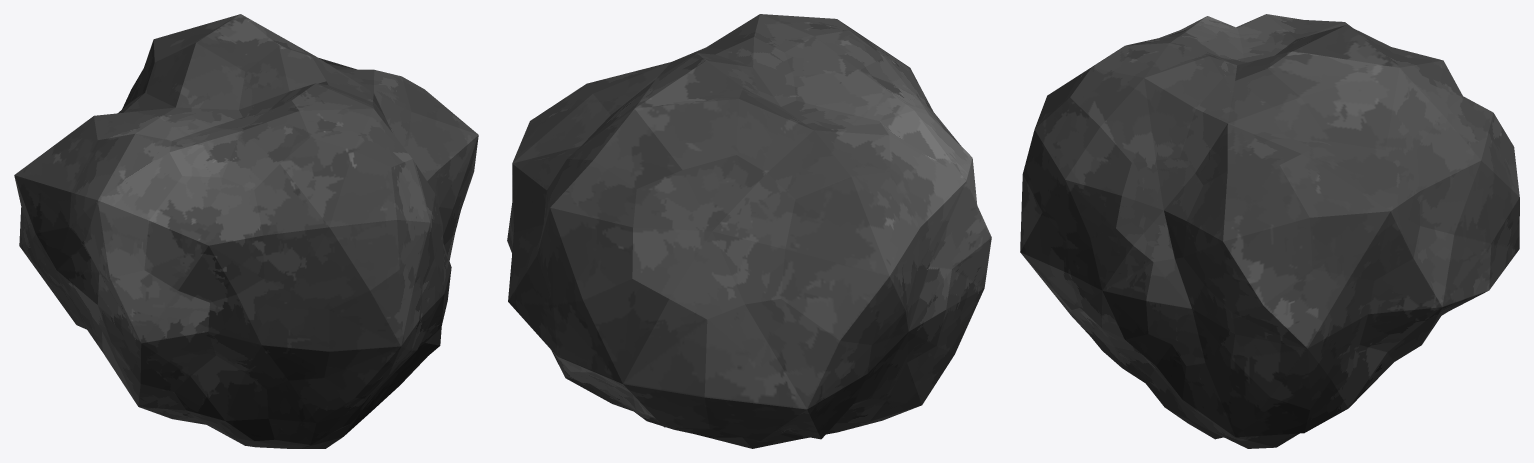
Rendered from PaleRock1.glb.
3 views of the same model, side by side, from view 1: azimuth 30°, elevation 25°; view 2: azimuth 150°, elevation 25°; view 3: azimuth 270°, elevation 25° (orthographic). The views are drawn at different scales.
Visible parts, largest first — view 1: PaleRock1; view 2: PaleRock1; view 3: PaleRock1.
Part boxes in pixels (bbox=[...]): PaleRock1: bbox=[14, 14, 478, 448]; PaleRock1: bbox=[507, 14, 991, 448]; PaleRock1: bbox=[1020, 14, 1519, 448].
Size of the model in its own units: 3.98 by 3.53 by 4.22.
Materials: 1 (1 with a texture image).
